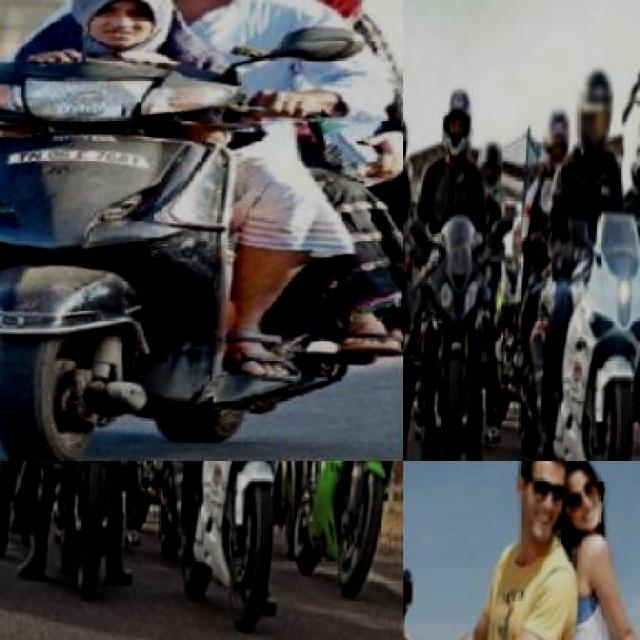With Helmet: (574, 63, 617, 148), (440, 83, 478, 154), (542, 98, 575, 164), (477, 131, 508, 187), (403, 108, 412, 170), (630, 132, 638, 191)
Without Helmet: (508, 460, 569, 551), (560, 460, 606, 542)
